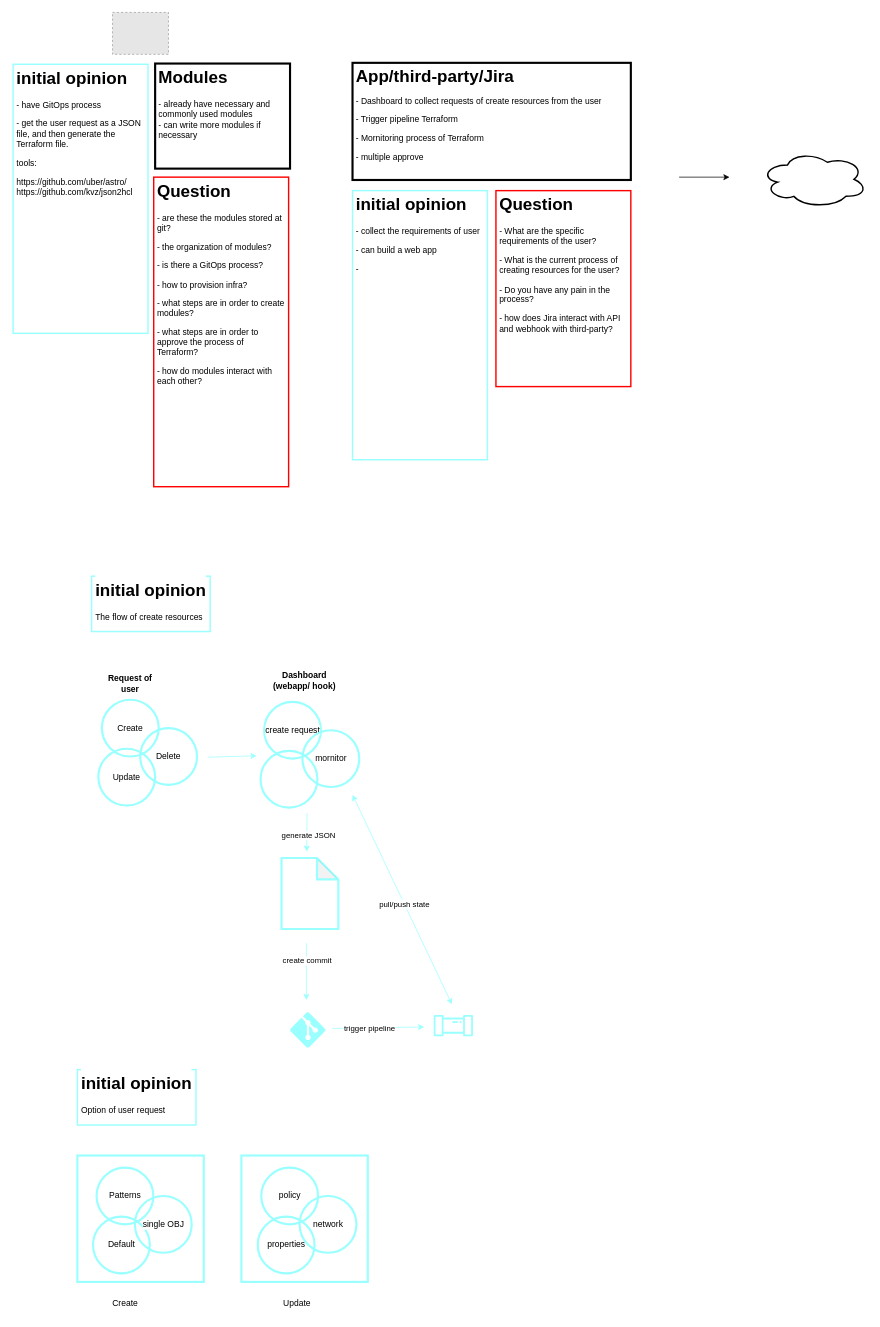
Image size: 880x1327. Some labels were removed from this diagram. Grey dashed boxes stand in for pictures. Here are the shapes that lost their labels. From the top down, the centre of each, then its label:
(814,179): Object in Cloud
(288,778): Approve
